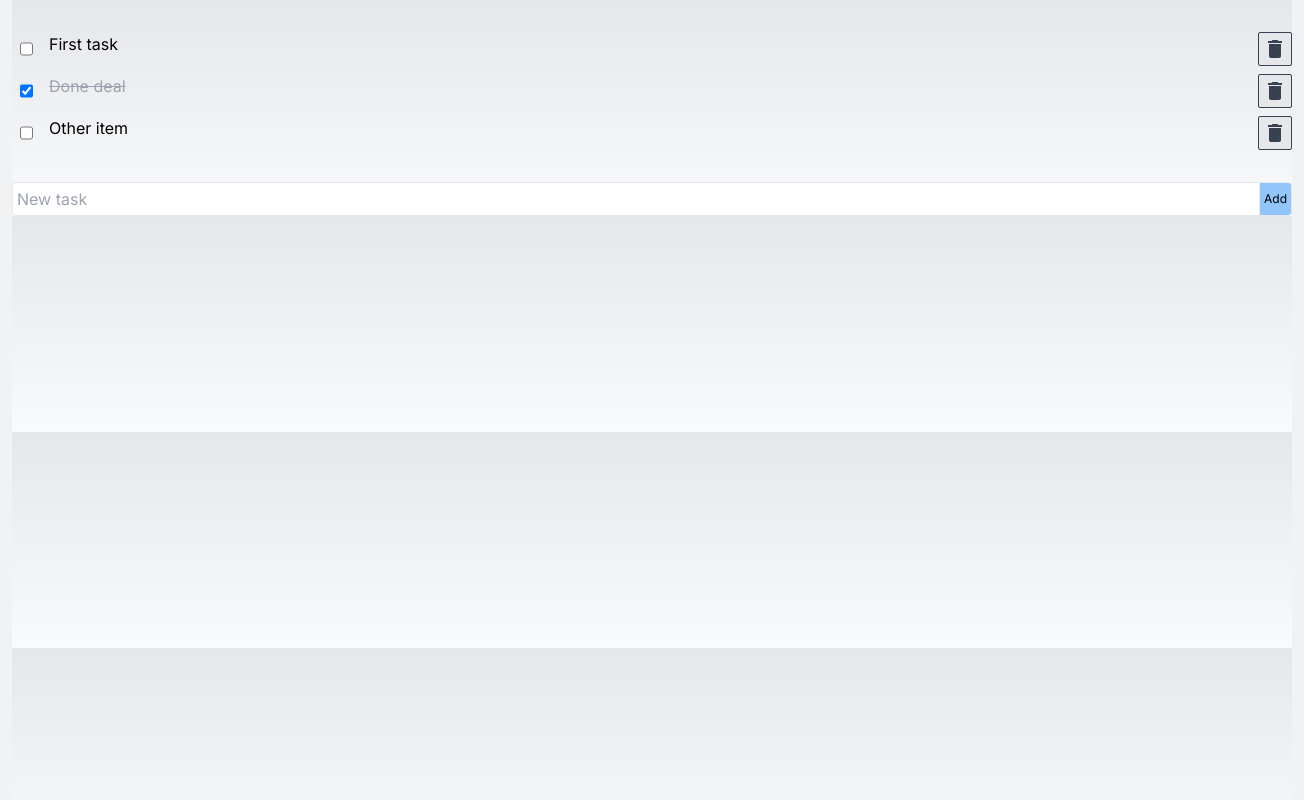
<Todoer ... /> › delete middle one
Click the button named "Remove" in the row of "Done deal": click(1275, 91) x1=1258 y1=74 x2=1292 y2=108
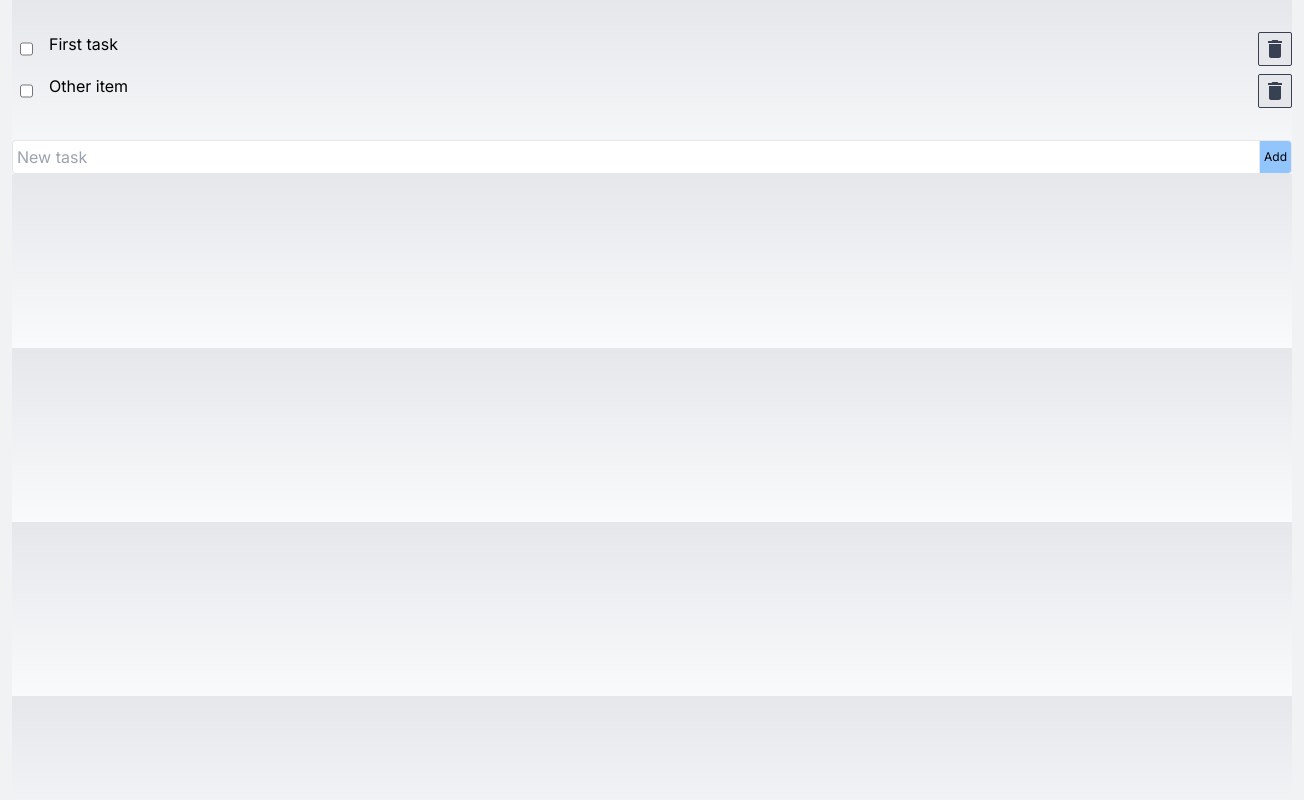
expect the text "Done deal" is gone: met
expect the number of list items is 2: met, box x1=12 y1=32 x2=1292 y2=66; x1=12 y1=74 x2=1292 y2=108
